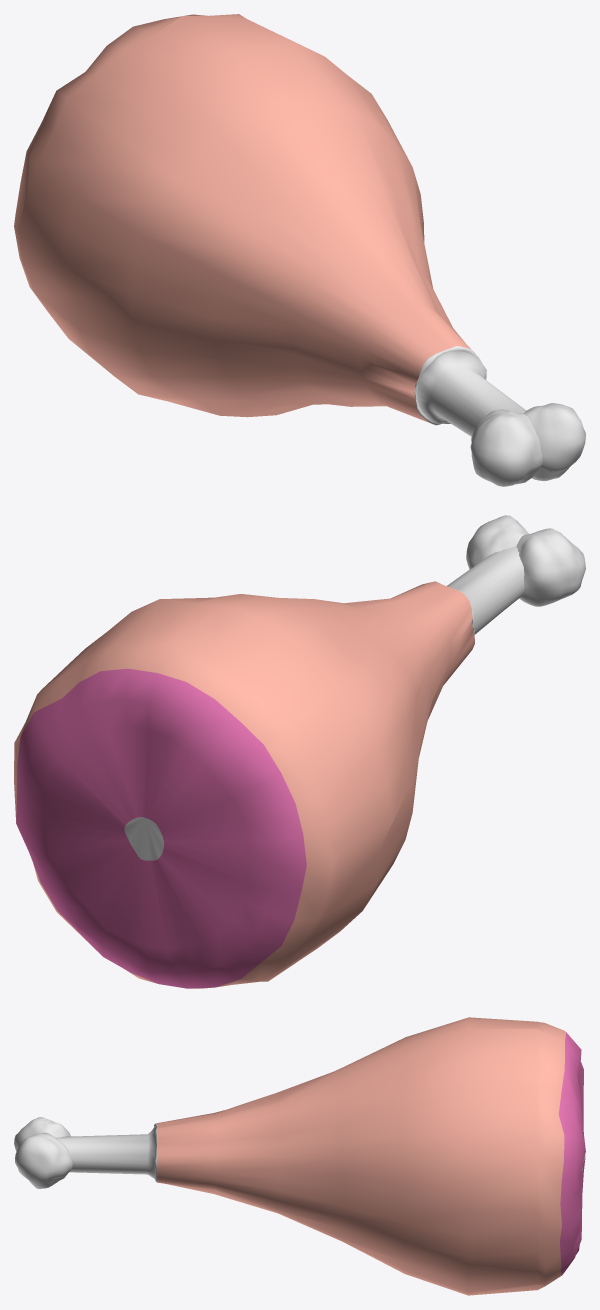
Rendered from uncutRawPork.fbx.
3 views of the same model, one above another, from view 1: azimuth 30°, elevation 25°; view 2: azimuth 150°, elevation 25°; view 3: azimuth 270°, elevation 25° (orthographic). The views are drawn at different scales.
Parts seen in each view (by area): view 1: Cylinder.004; view 2: Cylinder.004; view 3: Cylinder.004.
Part boxes in pixels (left/top/right/bottom): Cylinder.004: left=14, top=14, right=585, bottom=486; Cylinder.004: left=14, top=515, right=585, bottom=988; Cylinder.004: left=14, top=1017, right=585, bottom=1295.
Bounding box in the file's own units: 144 × 145 × 300.
